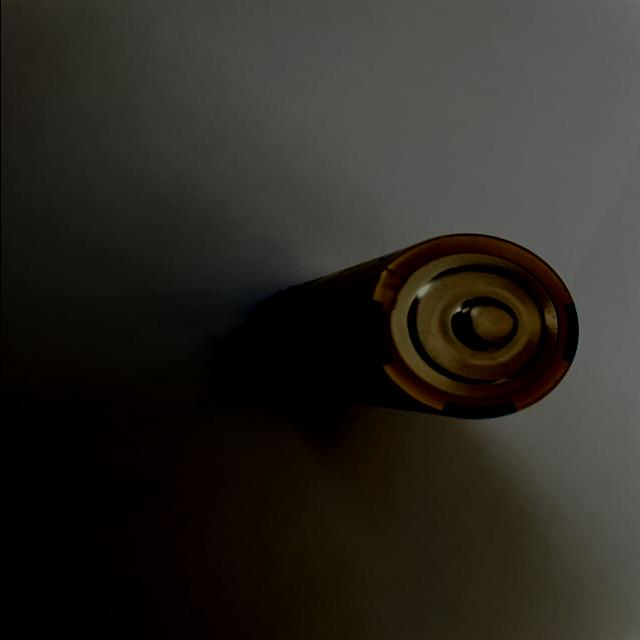AA: (242, 230, 581, 420)
